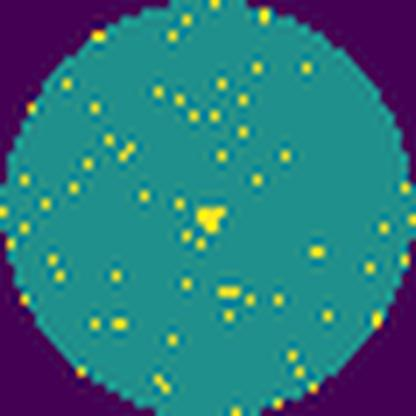Center: (196, 204, 227, 237)
